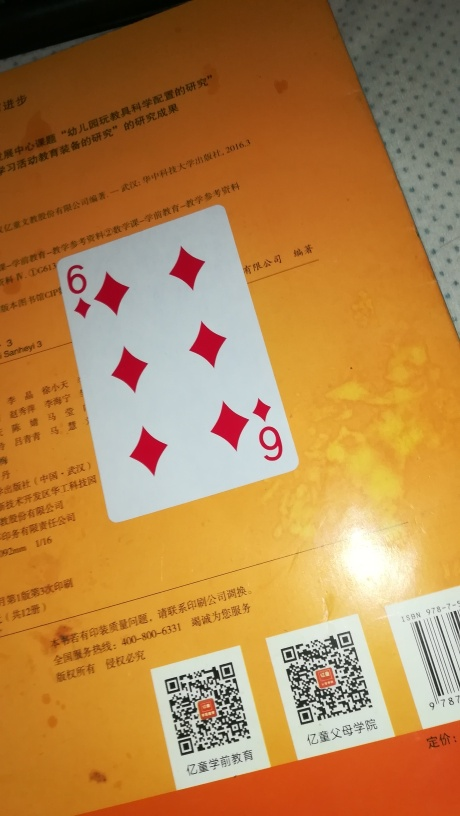fk 5: (55, 198, 302, 522)
